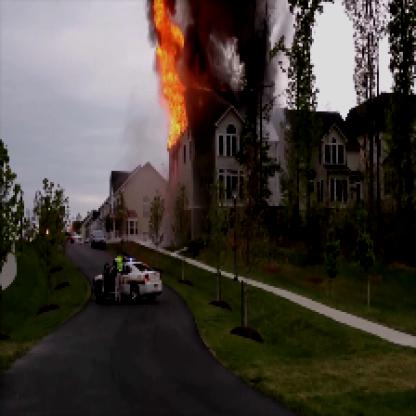Fire: (145, 2, 200, 148)
Smoke: (182, 2, 271, 124)
